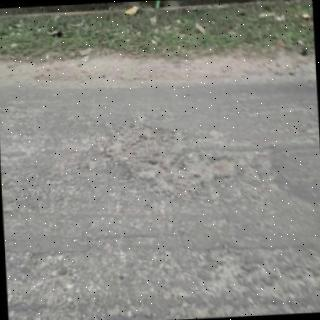pothole: (107, 127, 230, 190)
